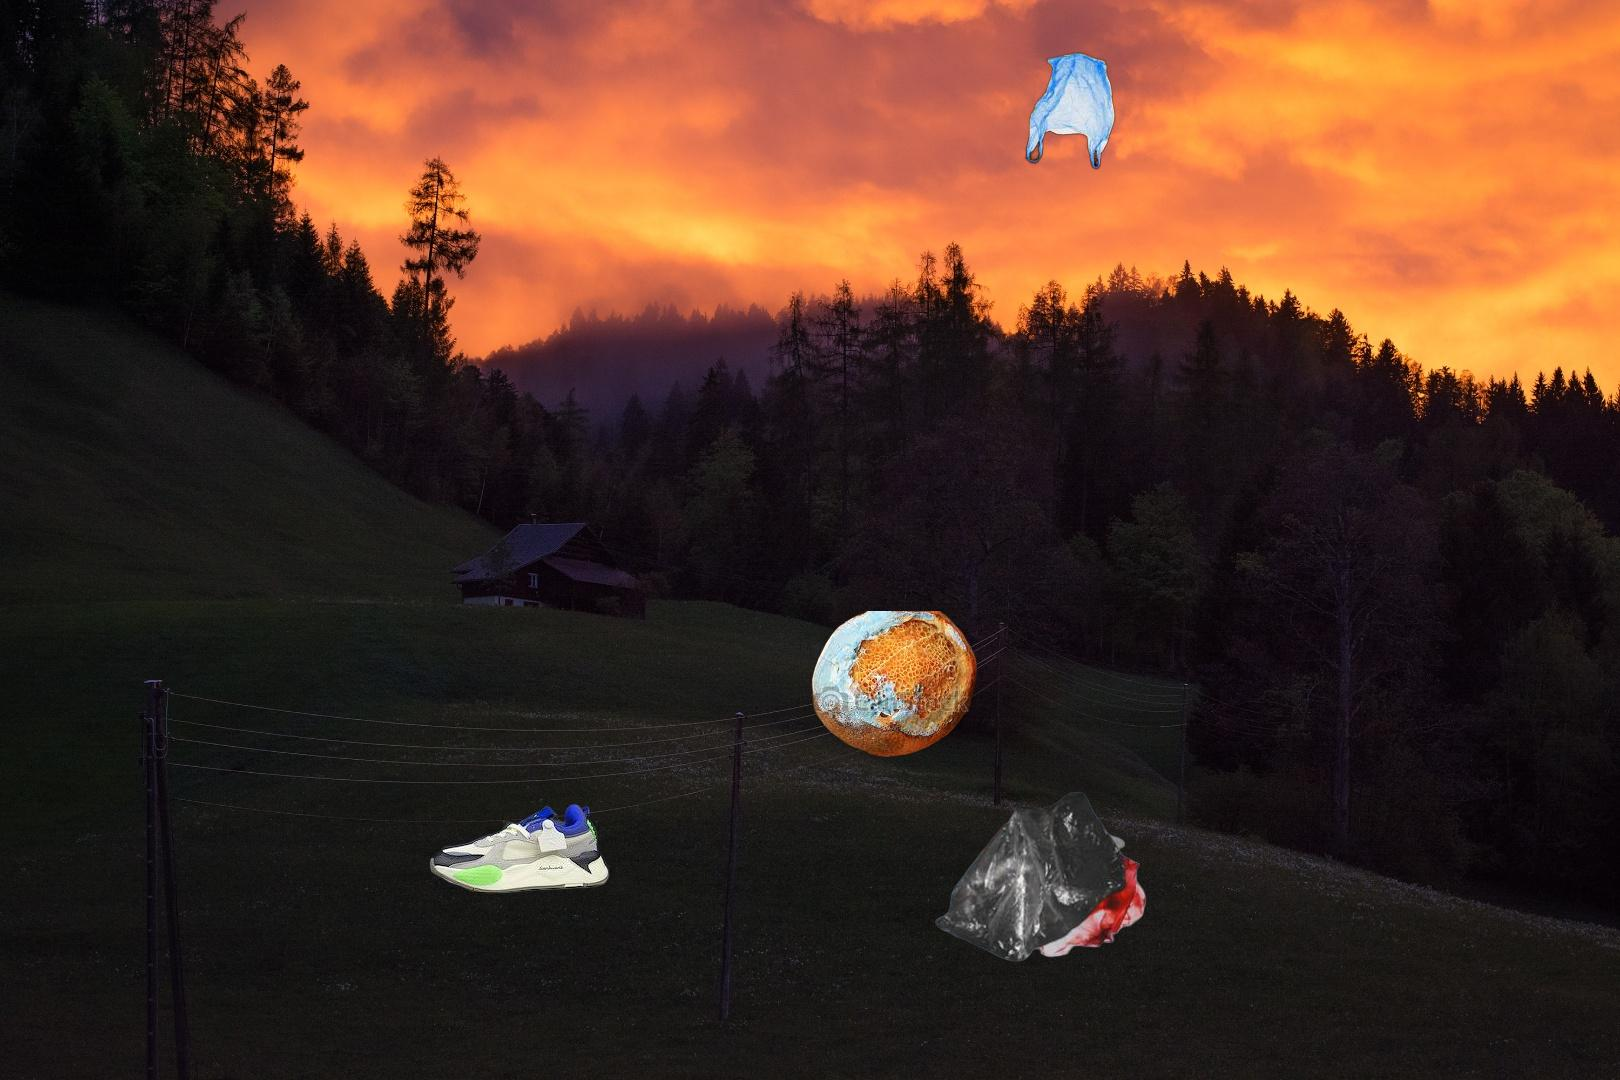biological: (809, 611, 980, 761)
plastic-bag: (932, 790, 1150, 965), (1022, 49, 1119, 172)
shoes: (425, 802, 618, 896)
